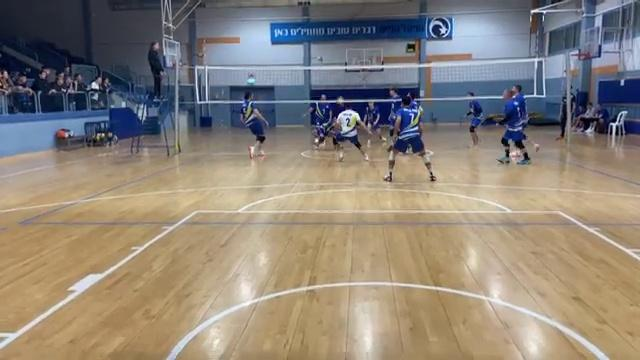ball: (334, 94, 345, 106)
